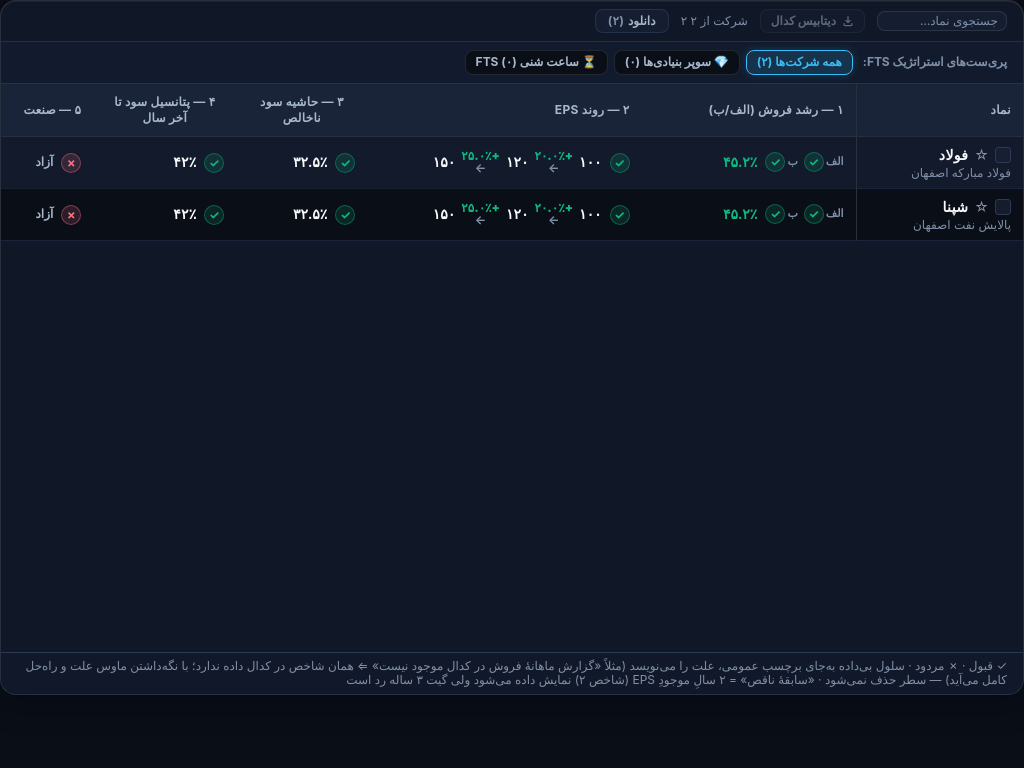
Test: کارایی جدول غربالگری (F-08) › جستجو با نوشتارِ عربی هم تطبیق می‌کند و با × پاک می‌شود
Step 1. Type "پالايش نفت" into the search field with test id "fts-search" → (942, 21), box [886,14,998,28]
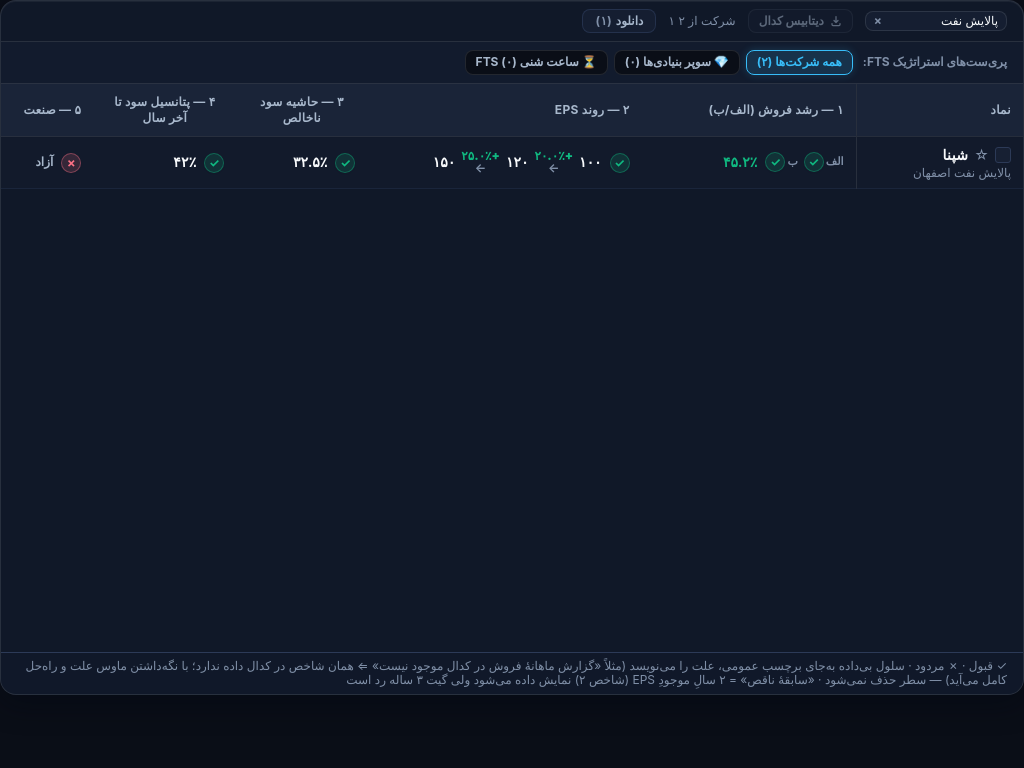
Result: the number of rows with test id "fts-screen-row" is 1 at [1,136,1023,188]
Step 2. Click the button with test id "fts-search-clear" → (878, 21), box [874,14,882,28]
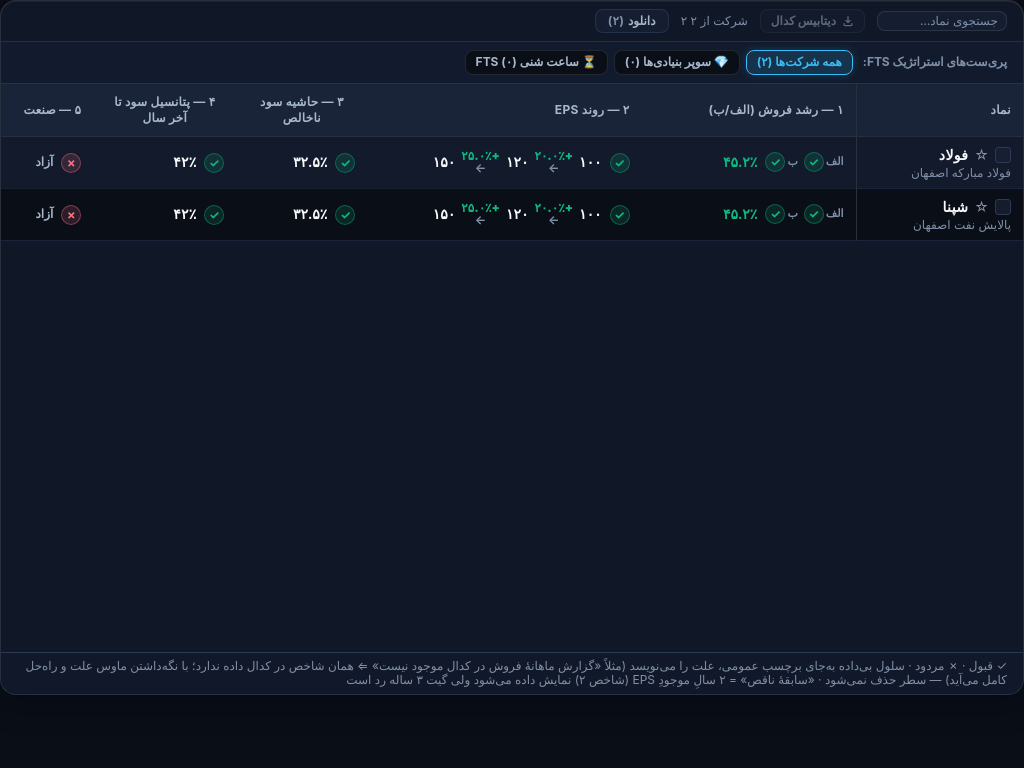
Result: the number of rows with test id "fts-screen-row" is 2 at [1,136,1023,188]; [1,188,1023,240]
